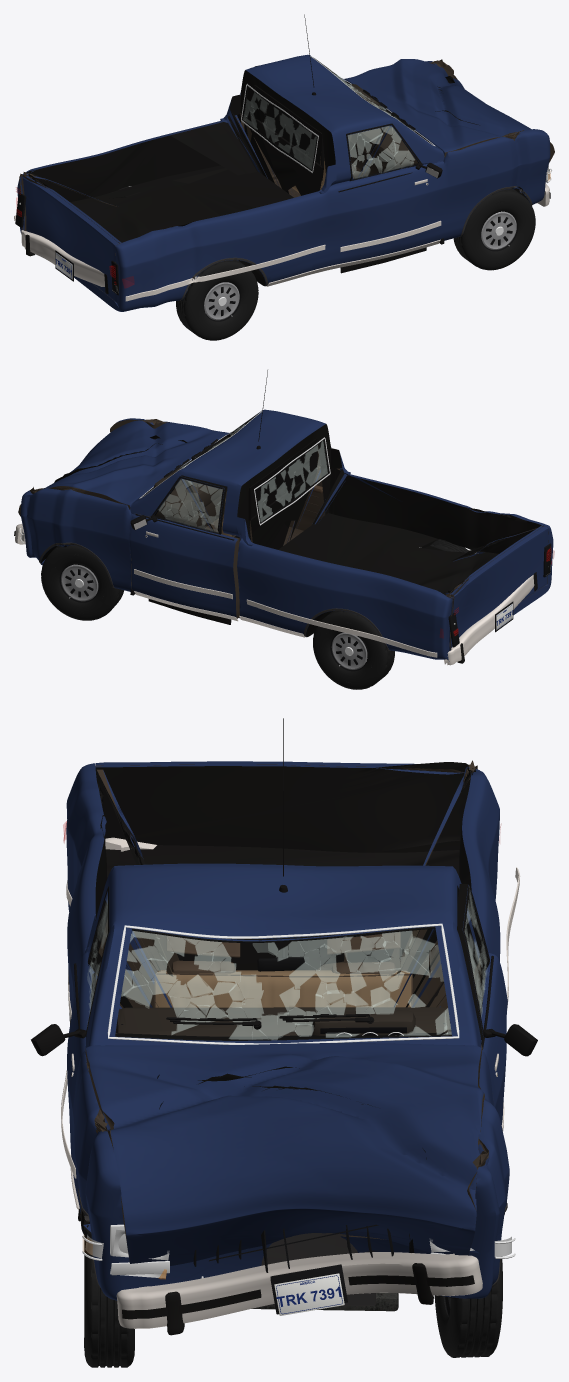
File: pickup87_front_d1.glb
3 renders of one model, top to bottom at view 1: azimuth 30°, elevation 25°; view 2: azimuth 150°, elevation 25°; view 3: azimuth 270°, elevation 25°, orthographic. The views are drawn at different scales.
Visible parts, largest first — view 1: Body, Hood, Tailgate, Wheel_FR_mesh, Wheel_RR_mesh, Door_FR, Glass, Interior, Trim, Trim_FR, Glass_FR, Bumper_R (+1 smaller); view 2: Body, Door_FL, Hood, Tailgate, Wheel_RL_mesh, Wheel_FL_mesh, Glass, Interior, Trim, Trim_FL, Glass_FL, Bumper_R (+2 smaller); view 3: Body, Hood, Interior, Glass, Bumper_F, Ends, Door_FL, Wheel_FL_mesh, Wheel_FR_mesh, Trim, Engine, Trim_FR (+4 smaller).
Boxes of the visible parts, box(x1,y1,x2,y2) form: Body: box(17, 54, 550, 311); Hood: box(344, 59, 554, 162); Tailgate: box(21, 174, 119, 302); Wheel_FR_mesh: box(453, 188, 535, 270); Wheel_RR_mesh: box(176, 260, 258, 340); Door_FR: box(331, 123, 442, 264); Glass: box(241, 56, 435, 172); Interior: box(292, 84, 415, 193); Trim: box(14, 14, 532, 301); Trim_FR: box(333, 123, 442, 273); Glass_FR: box(348, 126, 418, 181); Bumper_R: box(21, 230, 108, 293); Body: box(20, 409, 553, 661); Door_FL: box(129, 475, 239, 618); Hood: box(18, 420, 228, 516); Tailgate: box(450, 526, 548, 649); Wheel_RL_mesh: box(313, 610, 394, 689); Wheel_FL_mesh: box(41, 545, 124, 620); Glass: box(139, 411, 330, 525); Interior: box(153, 468, 231, 536); Trim: box(39, 370, 478, 657); Trim_FL: box(130, 476, 238, 624); Glass_FL: box(154, 476, 224, 534); Bumper_R: box(444, 572, 537, 665); Body: box(66, 760, 509, 1300); Hood: box(85, 1043, 484, 1265); Interior: box(116, 932, 451, 1036); Glass: box(107, 923, 459, 1044); Bumper_F: box(116, 1252, 482, 1335); Ends: box(82, 1224, 515, 1315); Door_FL: box(457, 884, 507, 1124); Wheel_FL_mesh: box(434, 1259, 502, 1357); Wheel_FR_mesh: box(84, 1217, 134, 1367); Trim: box(66, 718, 520, 1289); Engine: box(261, 1233, 376, 1306); Trim_FR: box(31, 886, 109, 1209).
Bounding box in the file's own units: 4.73 × 2.56 × 2.34.
Materials: 34 (5 with a texture image).
